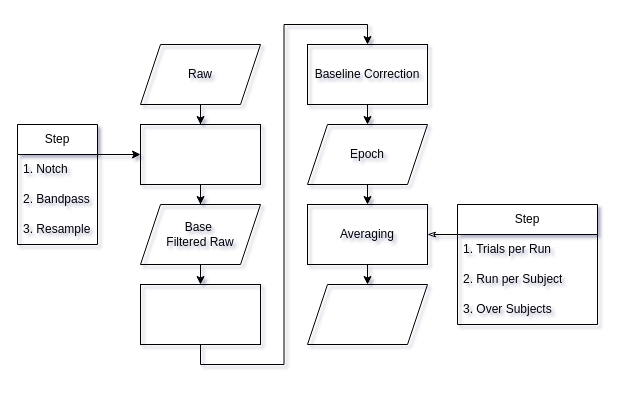
The diagram is 621 pixels wide and 396 high, and some of its shapes have lost their labels. Each missing label, with the centre of its shape:
"Epoching" goes at (x=200, y=314).
"Evoked" goes at (x=367, y=314).
"Filter" goes at (x=200, y=154).
